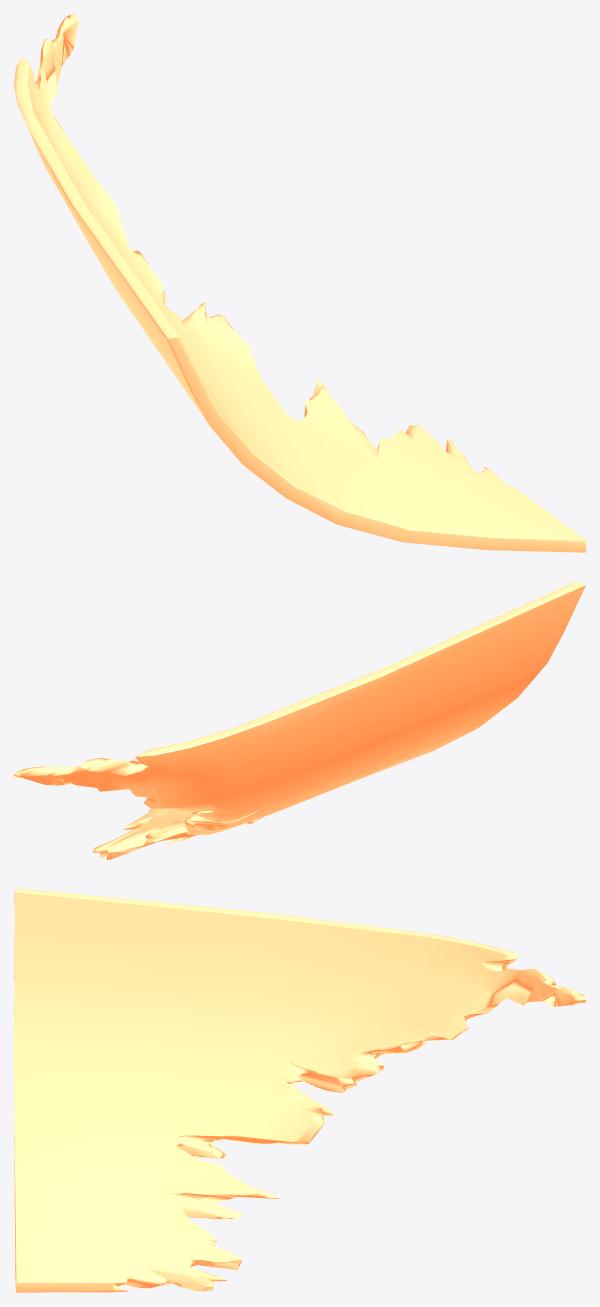
The model's file is SM_HullFront.fbx.
3 views of the same model, one above another, from view 1: azimuth 30°, elevation 25°; view 2: azimuth 150°, elevation 25°; view 3: azimuth 270°, elevation 25° (orthographic). The views are drawn at different scales.
Visible parts, largest first — view 1: SM_HullFront_LOD0; view 2: SM_HullFront_LOD0; view 3: SM_HullFront_LOD0.
Boxes of the visible parts, <box> form: SM_HullFront_LOD0: <box>14,14,585,552</box>; SM_HullFront_LOD0: <box>14,581,585,859</box>; SM_HullFront_LOD0: <box>14,888,585,1292</box>.
Size of the model in its own units: 581 by 883 by 422.
